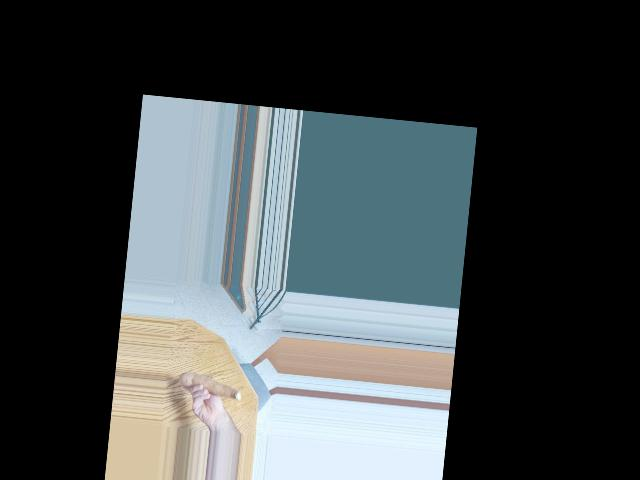sweet_potato: (180, 369, 240, 402)
